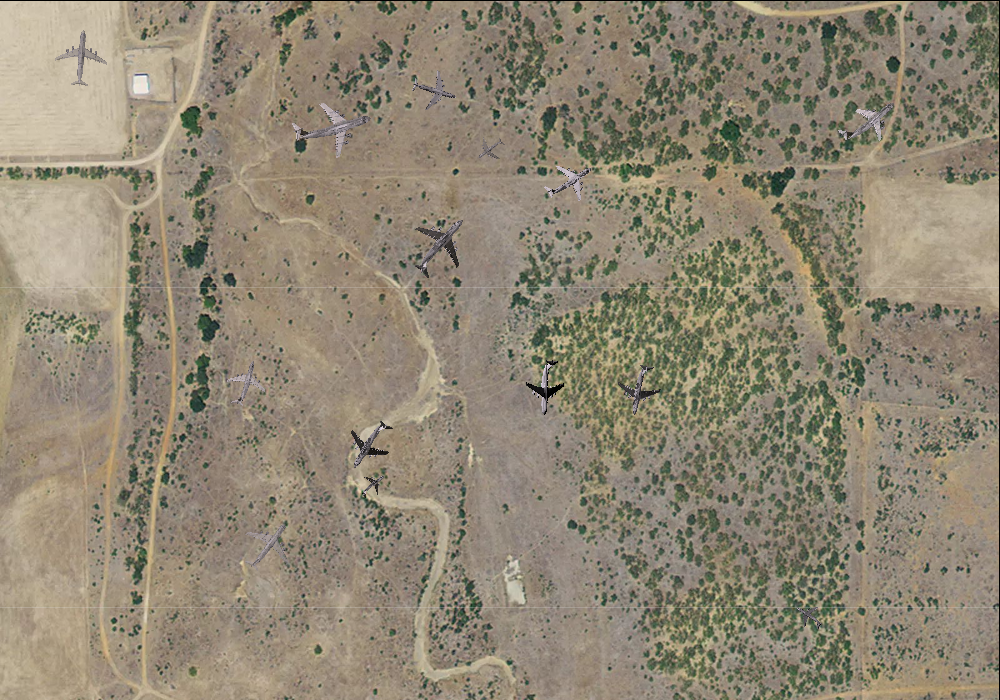plane: (394, 199, 487, 292), (283, 80, 379, 170), (827, 80, 908, 160), (229, 507, 306, 584), (334, 408, 406, 482), (534, 146, 603, 214), (52, 27, 109, 88), (611, 359, 668, 419), (217, 354, 273, 412), (406, 63, 461, 116), (523, 358, 572, 415), (469, 128, 511, 169), (789, 597, 829, 637), (353, 466, 392, 505)
